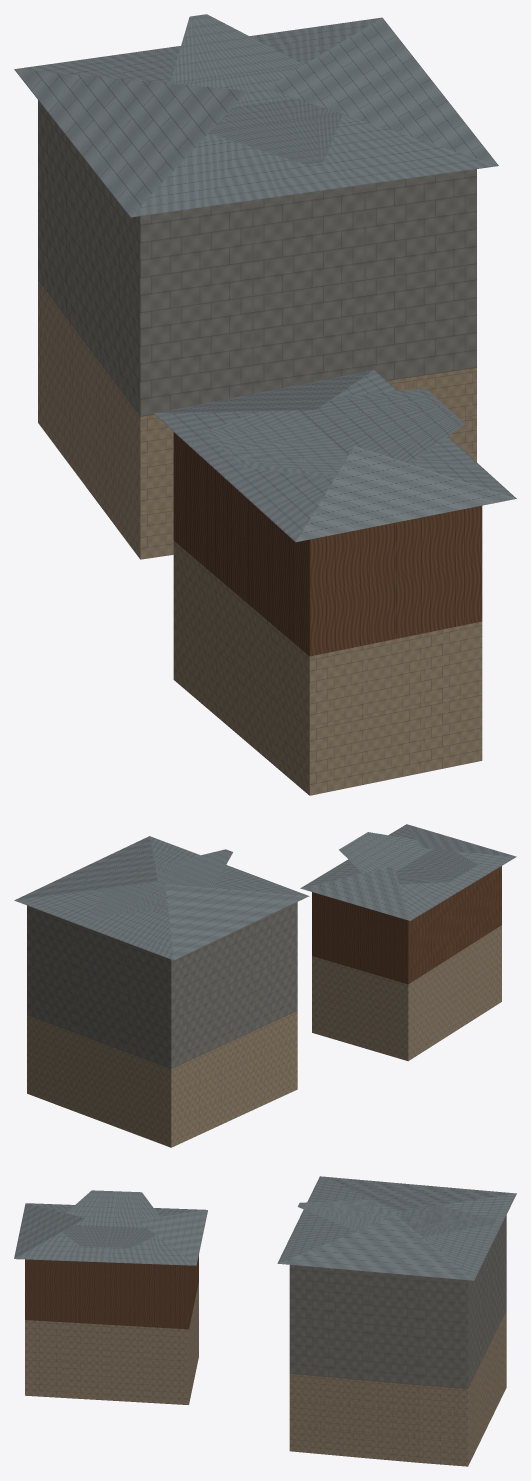
The model's file is bld_c0_10_495.gltf.
3 renders of one model, top to bottom at view 1: azimuth 30°, elevation 25°; view 2: azimuth 150°, elevation 25°; view 3: azimuth 270°, elevation 25°, orthographic. The views are drawn at different scales.
Parts seen in each view (by area): view 1: bld_c0_10_495; view 2: bld_c0_10_495; view 3: bld_c0_10_495.
Boxes of the visible parts, box(x1,y1,x2,y2) form: bld_c0_10_495: box(14, 14, 516, 795); bld_c0_10_495: box(14, 824, 516, 1147); bld_c0_10_495: box(14, 1176, 516, 1466).
Bounding box in the file's own units: 18.66 × 14 × 29.92.
4 materials, 4 textured.
